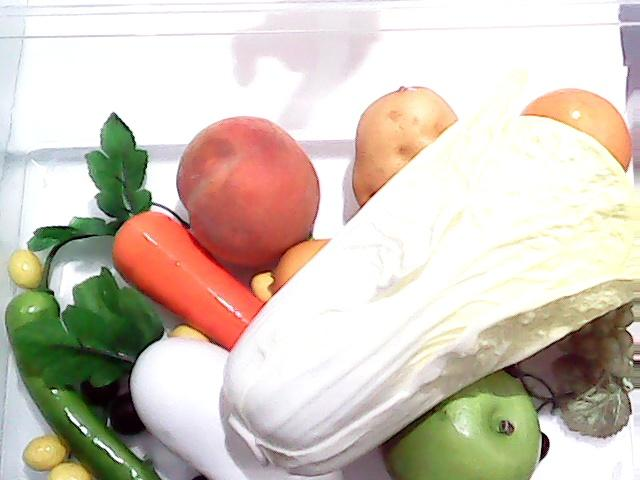apple: (381, 366, 543, 480)
carrot: (29, 107, 268, 353)
lemon: (511, 73, 640, 175)
napa cabbage: (227, 92, 633, 476)
peach: (176, 116, 320, 268)
pepper: (0, 235, 180, 480)
potato: (351, 84, 459, 211)
radish: (18, 267, 345, 480)
